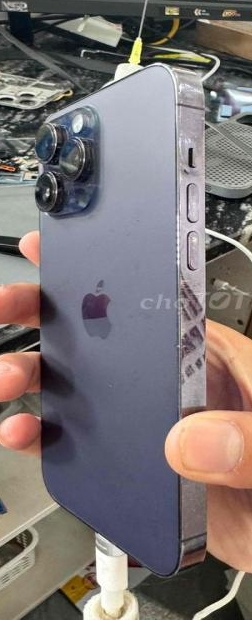scratch: (171, 133, 204, 355), (179, 72, 206, 112), (62, 175, 82, 198), (46, 155, 62, 165)
